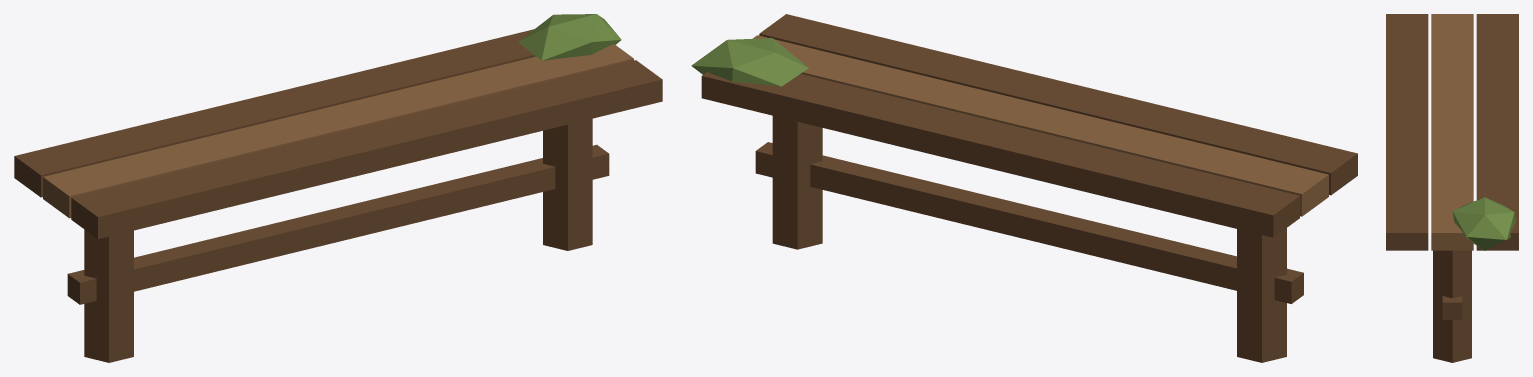
File: lakeside_bench.glb
The picture shows the model from 3 angles, left to right: view 1: azimuth 30°, elevation 25°; view 2: azimuth 150°, elevation 25°; view 3: azimuth 270°, elevation 25°; orthographic projection. The views are drawn at different scales.
Parts seen in each view (by area): view 1: lakeside_bench; view 2: lakeside_bench; view 3: lakeside_bench.
Part boxes in pixels (x1=…): lakeside_bench: x1=14, y1=14, x2=662, y2=362; lakeside_bench: x1=691, y1=14, x2=1357, y2=362; lakeside_bench: x1=1386, y1=14, x2=1518, y2=362.
Bounding box in the file's own units: 1.65 × 0.5364 × 0.41.
